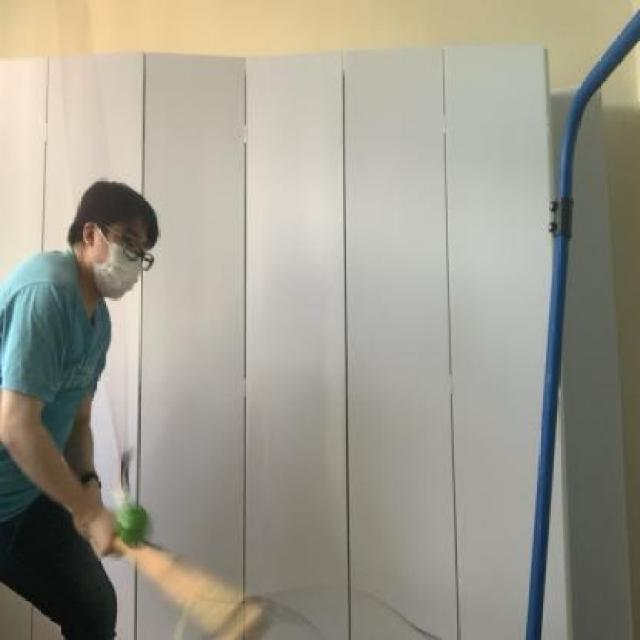baseball: (105, 494, 160, 555)
